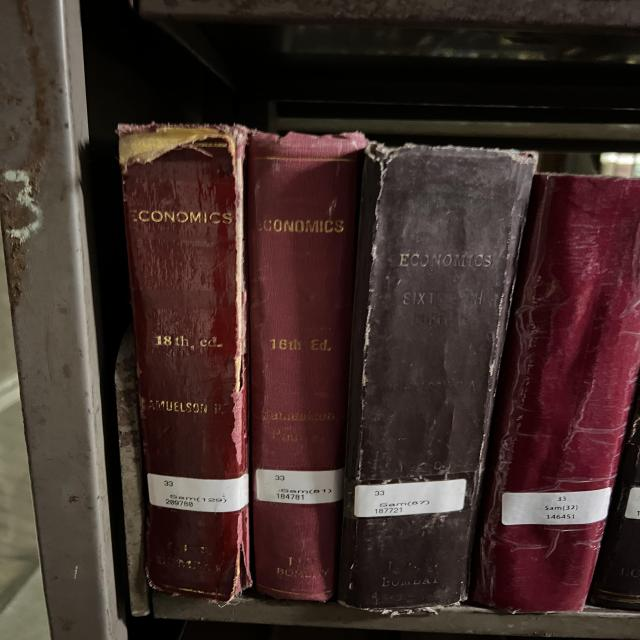Book: (338, 144, 537, 610), (473, 175, 640, 611), (118, 125, 252, 601), (247, 131, 367, 601)
Label: (353, 479, 467, 518), (502, 488, 612, 525), (147, 474, 248, 512), (255, 469, 343, 504)
